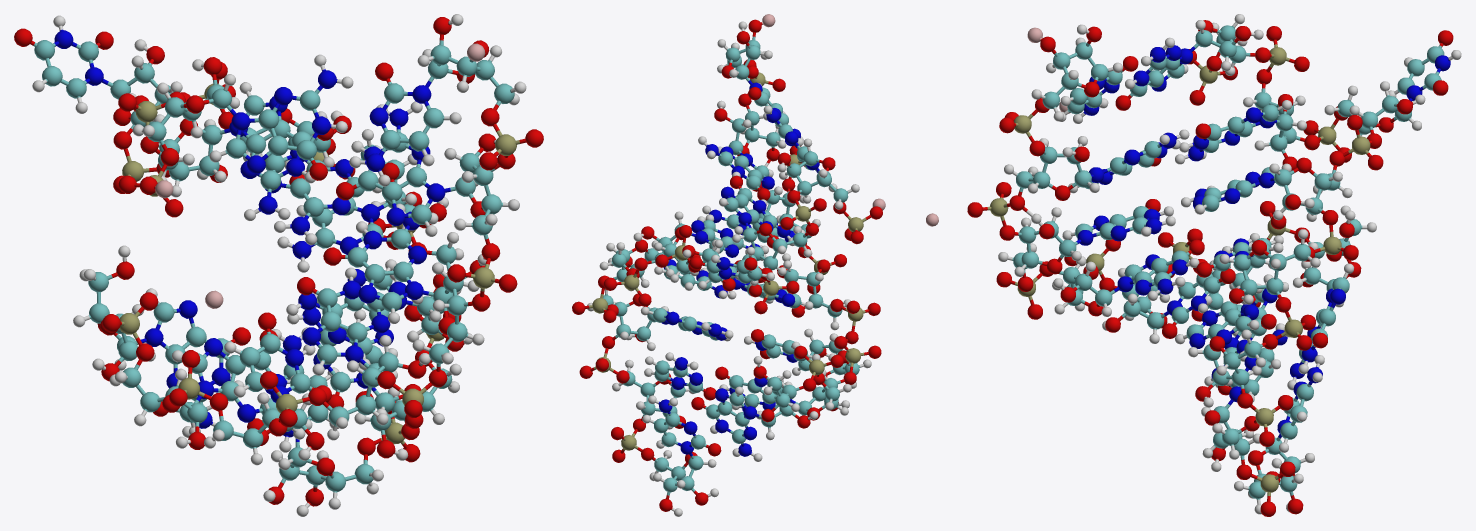
File: arn.glb
3 views of the same model, side by side, from view 1: azimuth 30°, elevation 25°; view 2: azimuth 150°, elevation 25°; view 3: azimuth 270°, elevation 25° (orthographic). The views are drawn at different scales.
Parts seen in each view (by area): view 1: arn; view 2: arn; view 3: arn.
Part boxes in pixels (box(x1,y1,x2,y2)): arn: box(14, 14, 543, 516); arn: box(572, 14, 938, 516); arn: box(967, 14, 1461, 516).
Bounding box in the file's own units: 2.67 × 3.96 × 3.54.
